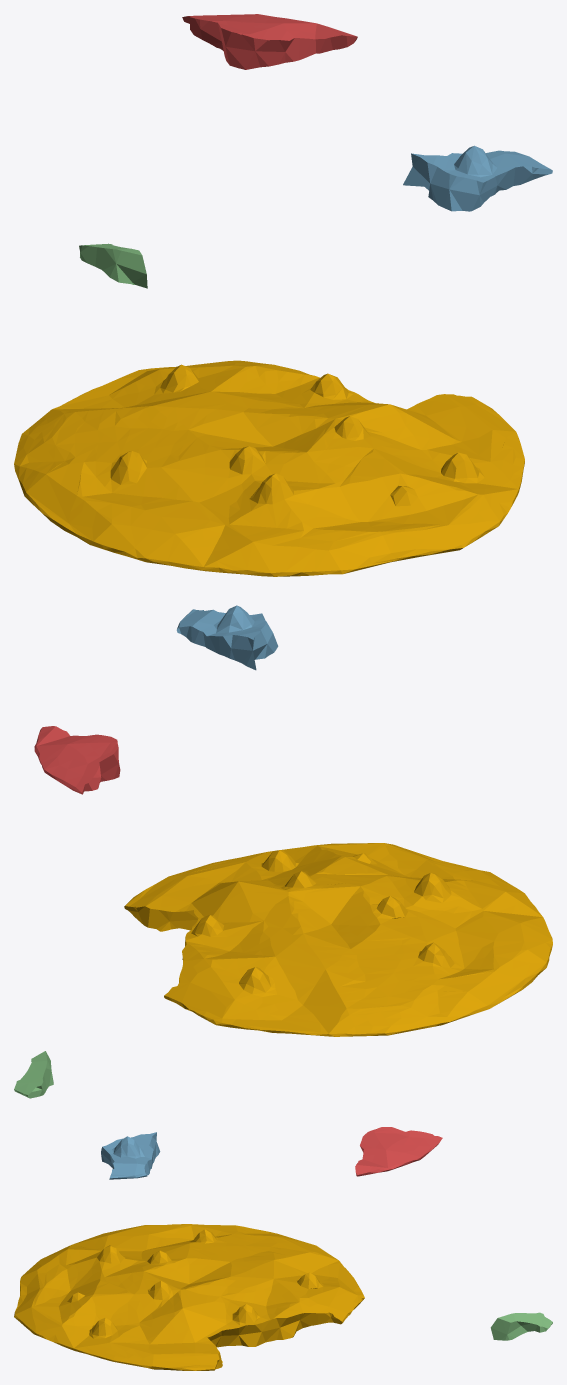
File: fractured_55_4pcs_transformed.glb
The picture shows the model from 3 angles, top to bottom: view 1: azimuth 30°, elevation 25°; view 2: azimuth 150°, elevation 25°; view 3: azimuth 270°, elevation 25°; orthographic projection. The views are drawn at different scales.
Parts seen in each view (by area): view 1: piece_0.obj, piece_1.obj, piece_2.obj, piece_3.obj; view 2: piece_0.obj, piece_1.obj, piece_2.obj, piece_3.obj; view 3: piece_0.obj, piece_1.obj, piece_2.obj, piece_3.obj.
Boxes of the visible parts, left/top/right/bottom form: piece_0.obj: left=14, top=360, right=524, bottom=576; piece_1.obj: left=182, top=14, right=357, bottom=69; piece_2.obj: left=403, top=145, right=552, bottom=211; piece_3.obj: left=79, top=243, right=147, bottom=288; piece_0.obj: left=124, top=843, right=552, bottom=1036; piece_1.obj: left=34, top=726, right=120, bottom=794; piece_2.obj: left=176, top=605, right=278, bottom=670; piece_3.obj: left=14, top=1051, right=53, bottom=1098; piece_0.obj: left=14, top=1224, right=364, bottom=1370; piece_1.obj: left=355, top=1127, right=442, bottom=1176; piece_2.obj: left=101, top=1132, right=160, bottom=1179; piece_3.obj: left=490, top=1312, right=552, bottom=1340.
Size of the model in its own units: 0.9812 by 0.7231 by 1.54.
